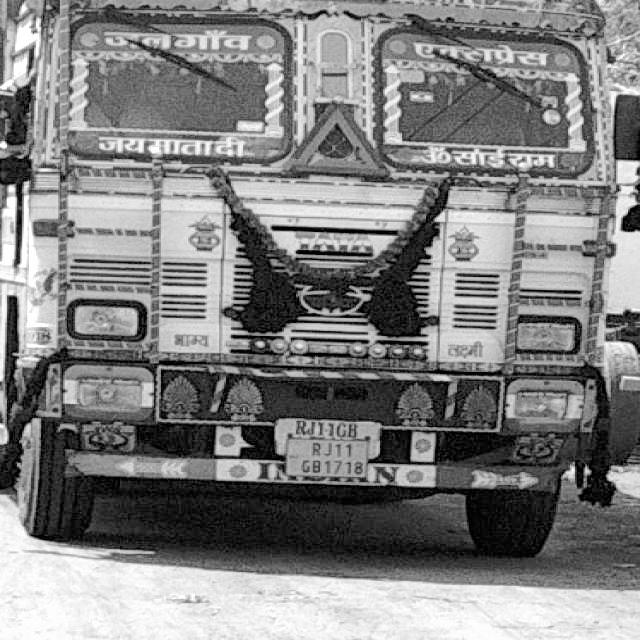HCV: (26, 13, 612, 563)
